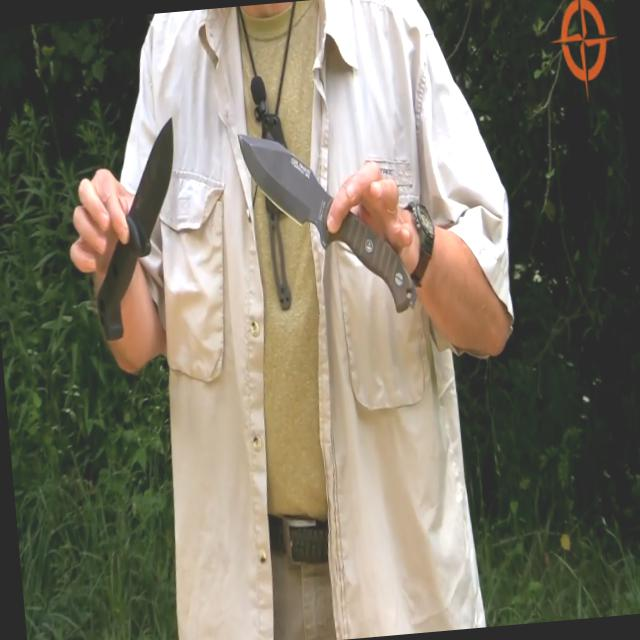knife: (232, 108, 420, 330), (78, 106, 196, 345)
